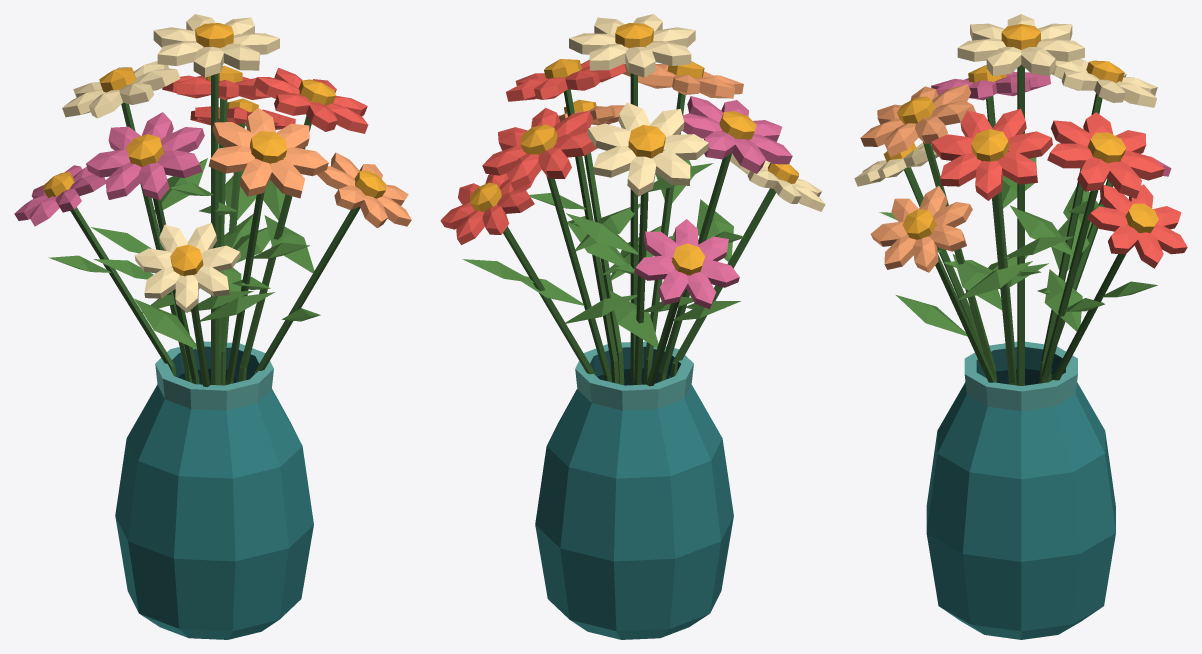
Rendered from FlowerBouquet.obj.
3 views of the same model, side by side, from view 1: azimuth 30°, elevation 25°; view 2: azimuth 150°, elevation 25°; view 3: azimuth 270°, elevation 25° (orthographic).
Visible parts, largest first — view 1: Vase, Stems, Leaves, Golden_Centers, Flower_03_Peach, Flower_04_Pink, Flower_08_Cream, Flower_01_Cream, Vase_Rim, Flower_02_Coral, Flower_07_Peach, Flower_05_Cream (+4 smaller); view 2: Vase, Stems, Leaves, Golden_Centers, Flower_05_Cream, Flower_09_Pink, Flower_06_Coral, Flower_01_Cream, Flower_04_Pink, Vase_Rim, Flower_10_Coral, Flower_02_Coral (+4 smaller); view 3: Vase, Stems, Leaves, Golden_Centers, Flower_02_Coral, Flower_06_Coral, Flower_07_Peach, Flower_01_Cream, Flower_10_Coral, Flower_03_Peach, Vase_Rim, Flower_05_Cream (+3 smaller).
Boxes of the visible parts, bbox=[...] form: Vase: bbox=[115, 384, 313, 639]; Stems: bbox=[70, 73, 360, 387]; Leaves: bbox=[48, 158, 320, 349]; Golden_Centers: bbox=[43, 23, 386, 276]; Flower_03_Peach: bbox=[208, 107, 328, 198]; Flower_04_Pink: bbox=[86, 112, 204, 200]; Flower_08_Cream: bbox=[135, 223, 240, 312]; Flower_01_Cream: bbox=[153, 14, 279, 77]; Vase_Rim: bbox=[155, 341, 273, 410]; Flower_02_Coral: bbox=[253, 68, 368, 133]; Flower_07_Peach: bbox=[317, 152, 411, 228]; Flower_05_Cream: bbox=[62, 61, 180, 118]; Vase: bbox=[535, 384, 733, 639]; Stems: bbox=[503, 73, 776, 386]; Leaves: bbox=[462, 160, 743, 347]; Golden_Centers: bbox=[470, 23, 798, 275]; Flower_05_Cream: bbox=[587, 102, 708, 196]; Flower_09_Pink: bbox=[634, 219, 739, 309]; Flower_06_Coral: bbox=[482, 108, 597, 190]; Flower_01_Cream: bbox=[569, 14, 695, 77]; Flower_04_Pink: bbox=[682, 96, 792, 173]; Vase_Rim: bbox=[575, 341, 693, 410]; Flower_10_Coral: bbox=[440, 173, 534, 244]; Flower_02_Coral: bbox=[506, 59, 626, 101]; Vase: bbox=[926, 382, 1115, 639]; Stems: bbox=[904, 64, 1125, 385]; Leaves: bbox=[879, 157, 1157, 336]; Golden_Centers: bbox=[883, 24, 1158, 239]; Flower_02_Coral: bbox=[931, 108, 1052, 200]; Flower_06_Coral: bbox=[1047, 112, 1164, 198]; Flower_07_Peach: bbox=[870, 186, 972, 272]; Flower_01_Cream: bbox=[957, 14, 1084, 76]; Flower_10_Coral: bbox=[1087, 184, 1187, 268]; Flower_03_Peach: bbox=[860, 84, 975, 156]; Vase_Rim: bbox=[964, 341, 1077, 411]; Flower_05_Cream: bbox=[1051, 59, 1157, 107].
Size of the model in its own units: 0.2928 by 0.5656 by 0.2911.
